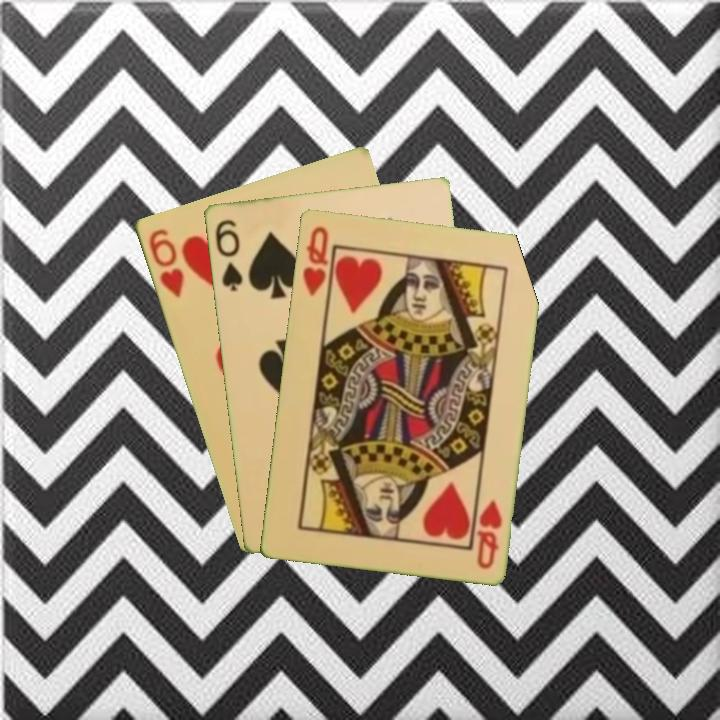6h: (144, 225, 187, 301)
6s: (211, 215, 245, 294)
Qh: (298, 222, 335, 305), (472, 496, 505, 572)
